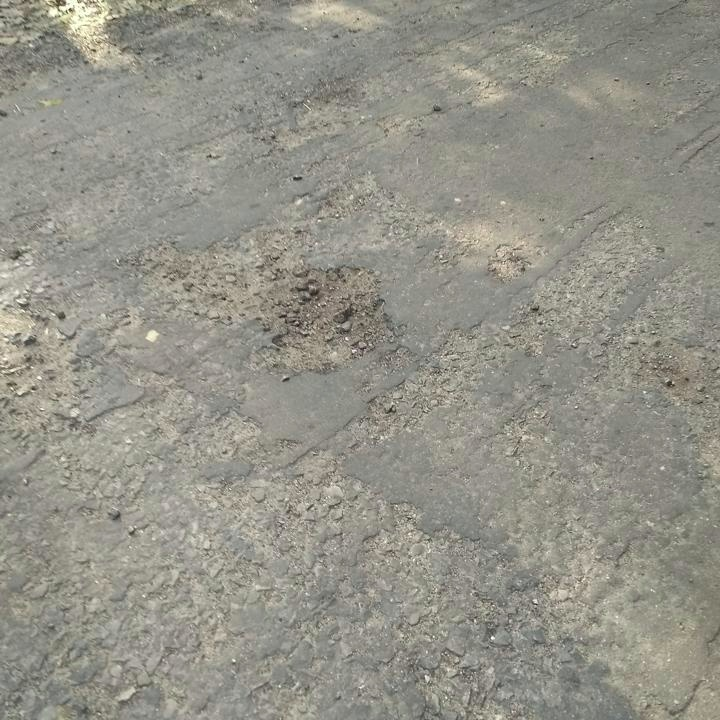pothole: (270, 258, 402, 371)
